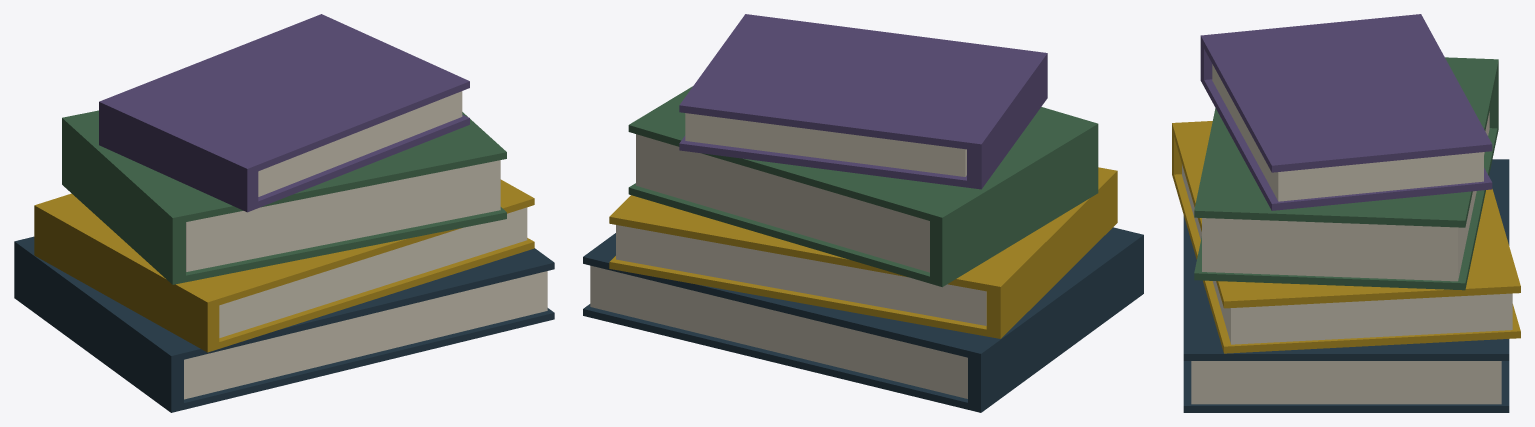
File: floor_book_stack.glb
3 views of the same model, side by side, from view 1: azimuth 30°, elevation 25°; view 2: azimuth 150°, elevation 25°; view 3: azimuth 270°, elevation 25° (orthographic). The views are drawn at different scales.
Visible parts, largest first — view 1: floor_book_stack; view 2: floor_book_stack; view 3: floor_book_stack.
Boxes of the visible parts, bbox=[...] form: floor_book_stack: bbox=[14, 14, 554, 412]; floor_book_stack: bbox=[583, 14, 1143, 412]; floor_book_stack: bbox=[1172, 14, 1520, 412].
Bounding box in the file's own units: 0.24 × 0.13 × 0.1819.
